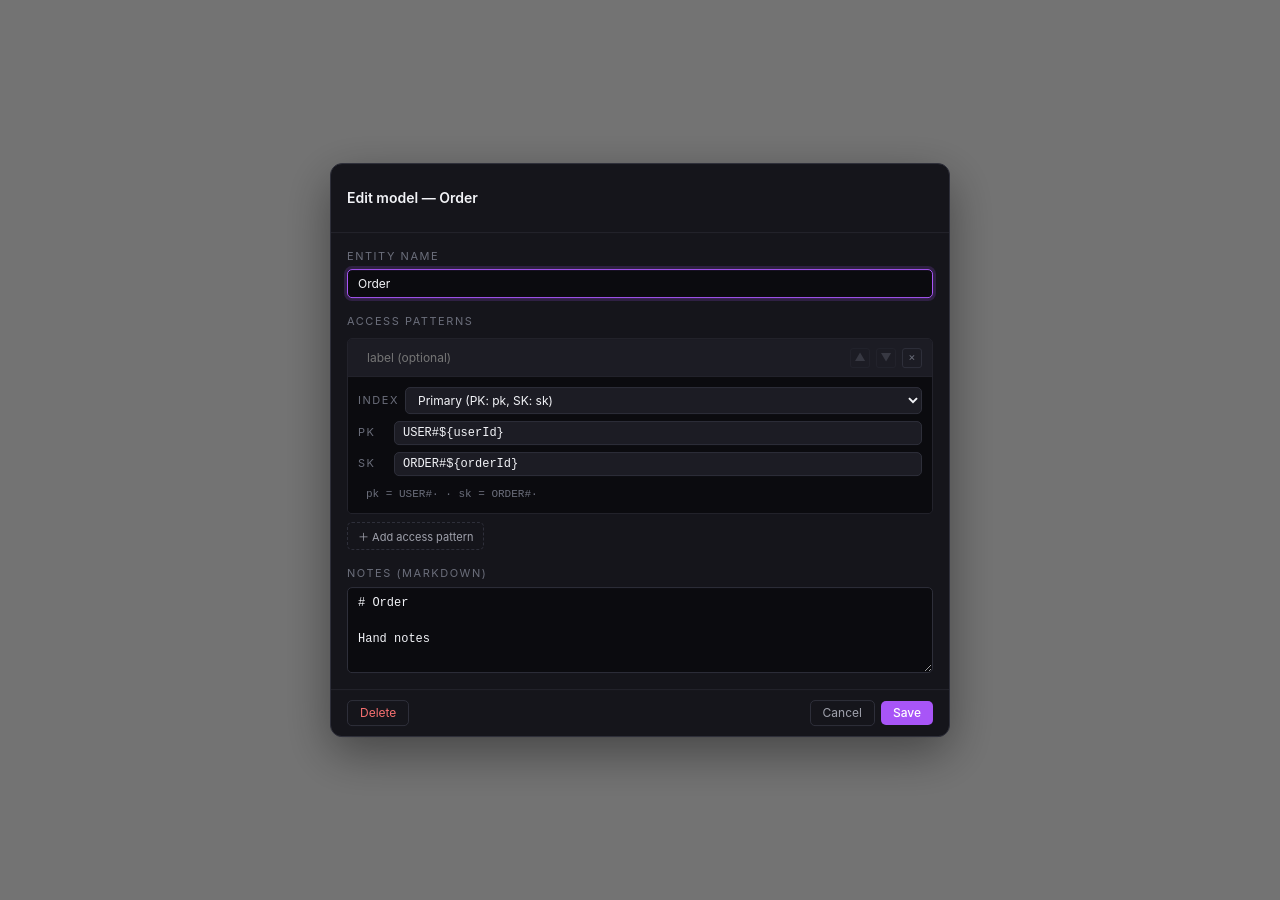
Test case: ModelEditor › access pattern management › adds a new access pattern row when Add button is clicked
This screenshot has width=1280, height=900.
Check: the field with test id "model-editor-ap-0-pk" is shown, box [394, 422, 922, 446]
Click the button with test id "model-editor-add-ap".
click(416, 536)  # box [347, 522, 484, 550]
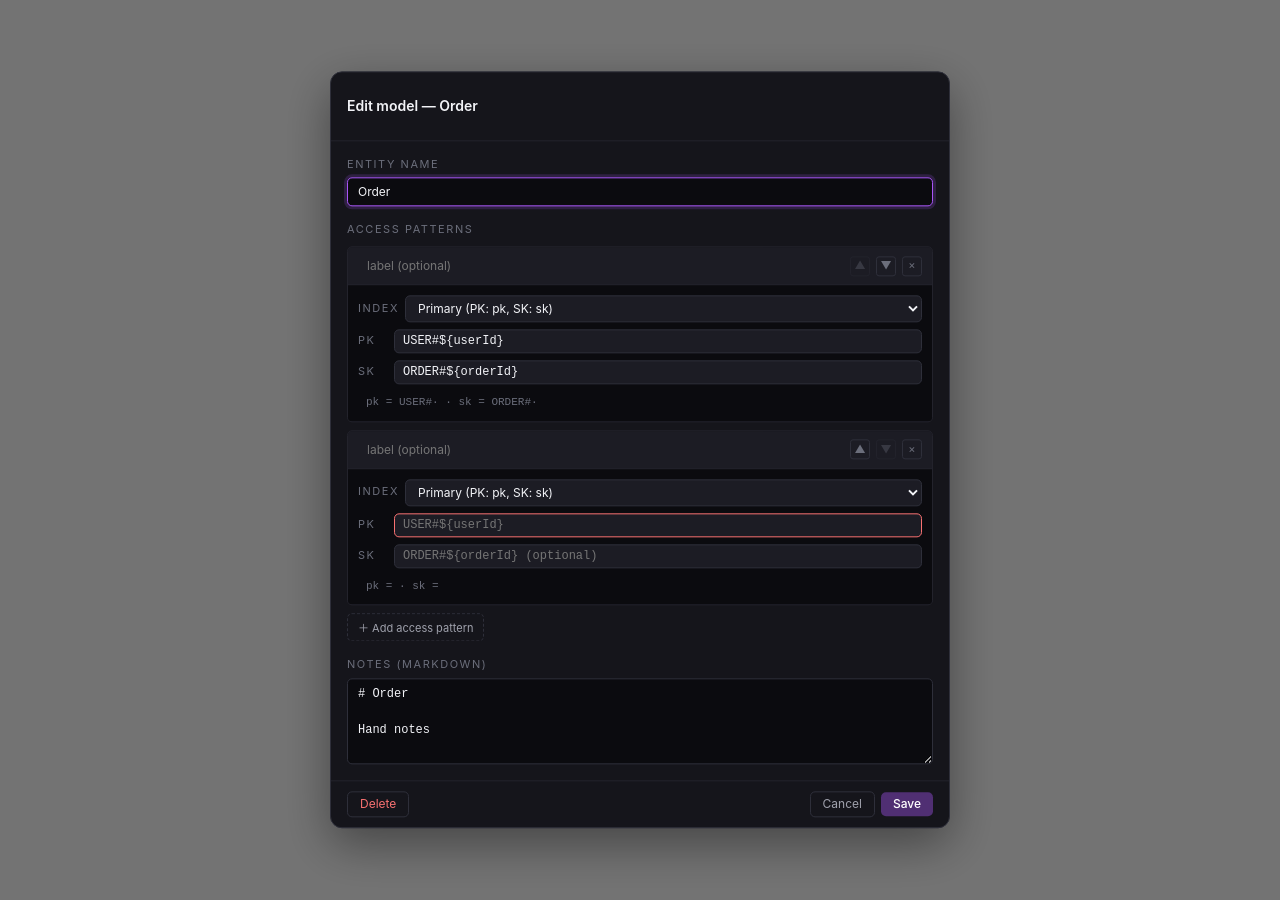
Check: the field with test id "model-editor-ap-1-pk" is shown, box [394, 513, 922, 537]
